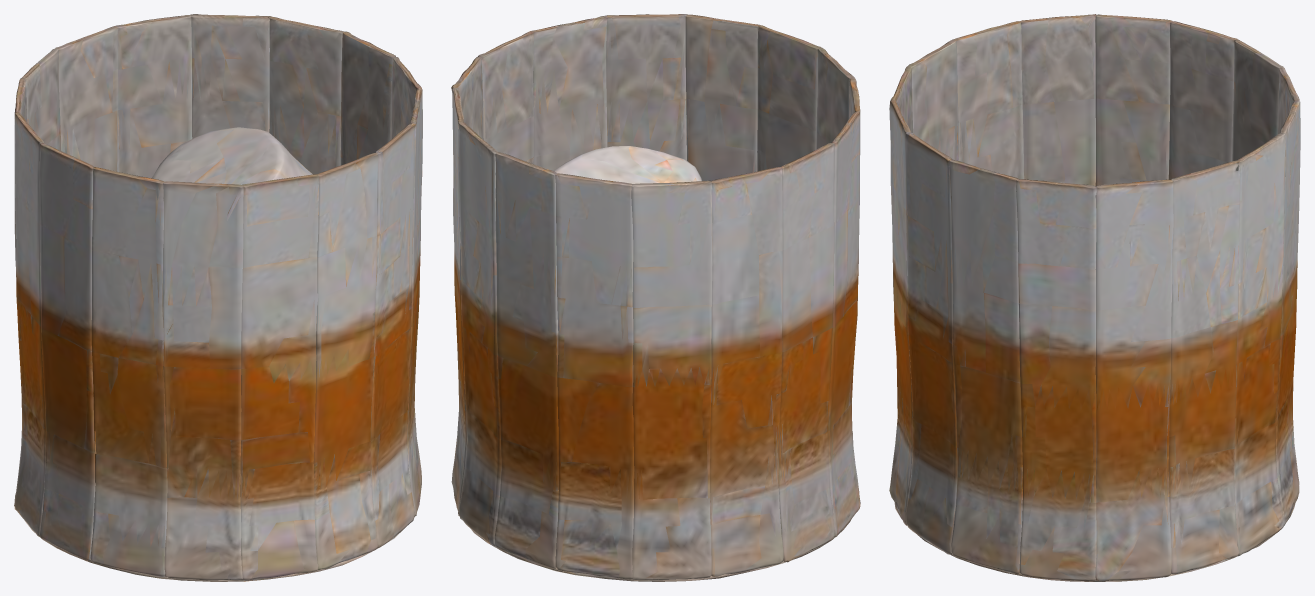
The model's file is whiskey_glass.glb.
3 renders of one model, left to right at view 1: azimuth 30°, elevation 25°; view 2: azimuth 150°, elevation 25°; view 3: azimuth 270°, elevation 25°, orthographic.
Visible parts, largest first — view 1: 0; view 2: 0; view 3: 0.
Part boxes in pixels (box(x1,y1,x2,y2)): 0: box(14, 14, 422, 581); 0: box(451, 14, 860, 581); 0: box(889, 14, 1300, 581).
Bounding box in the file's own units: 0.9428 × 1 × 0.9397.
1 material, 1 textured.
